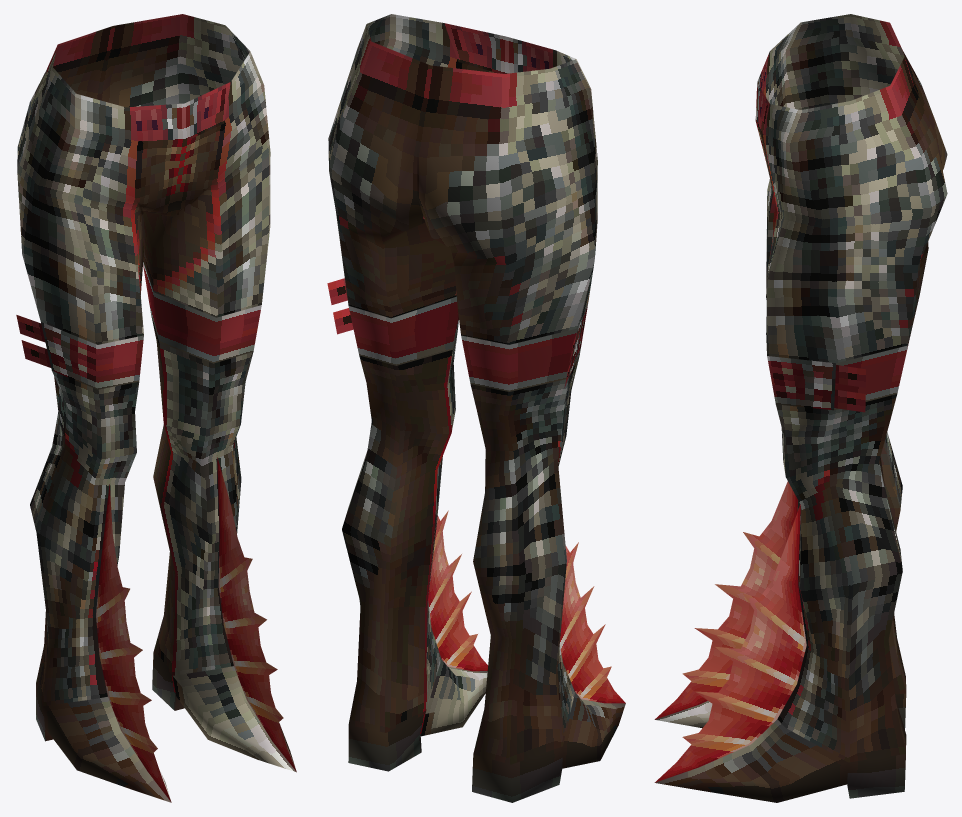
The model's file is f_reg022.glb.
3 views of the same model, side by side, from view 1: azimuth 30°, elevation 25°; view 2: azimuth 150°, elevation 25°; view 3: azimuth 270°, elevation 25° (orthographic). The views are drawn at different scales.
Size of the model in its own units: 41.81 by 110 by 41.85.
1 material, 1 textured.
